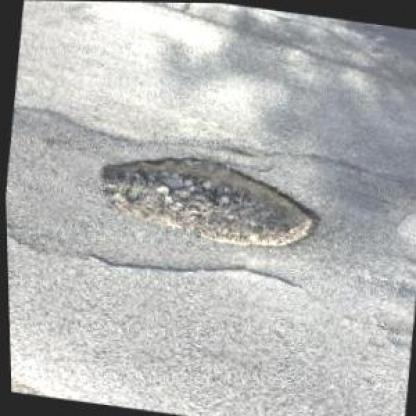pothole: (90, 140, 330, 257)
